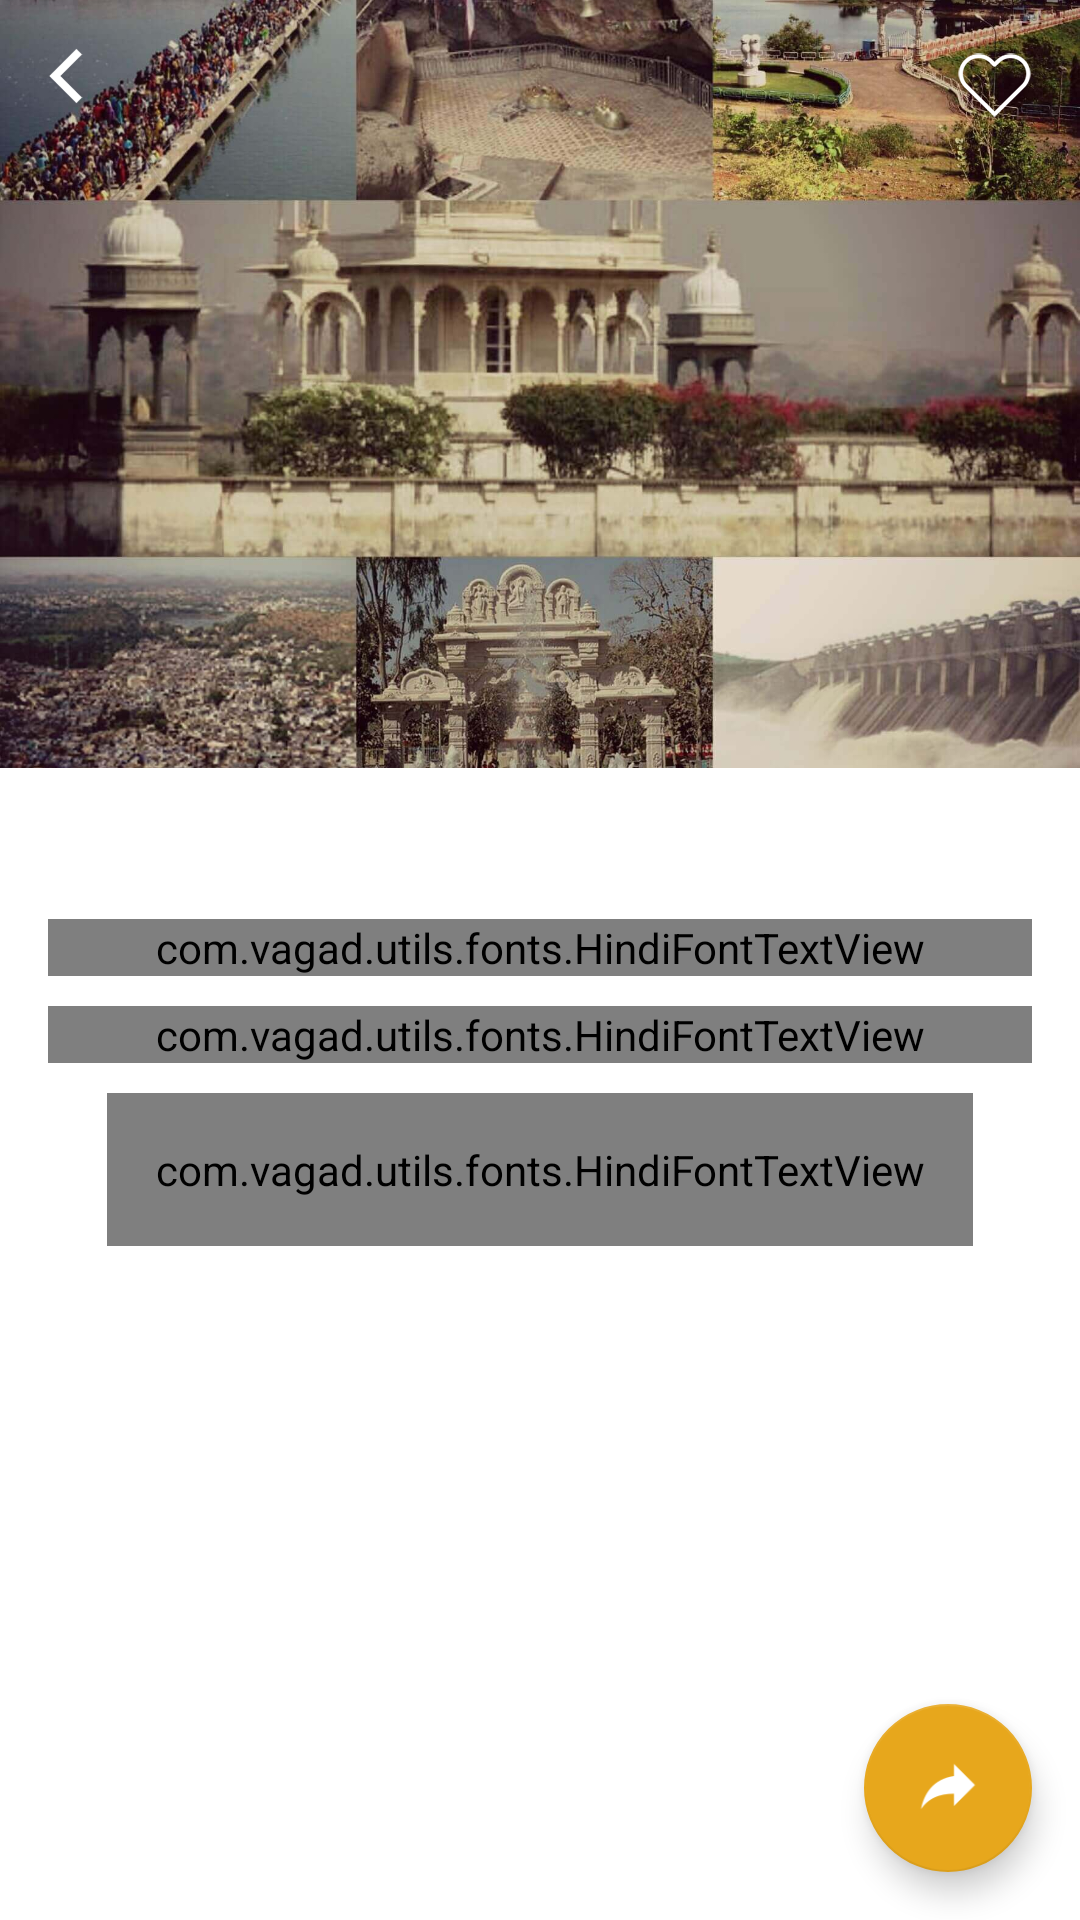

Named icons in this screenshot (1080x1920) and their bounding boxes, (x1, y1, x2, y2):
share: (864, 1704, 1032, 1872)
